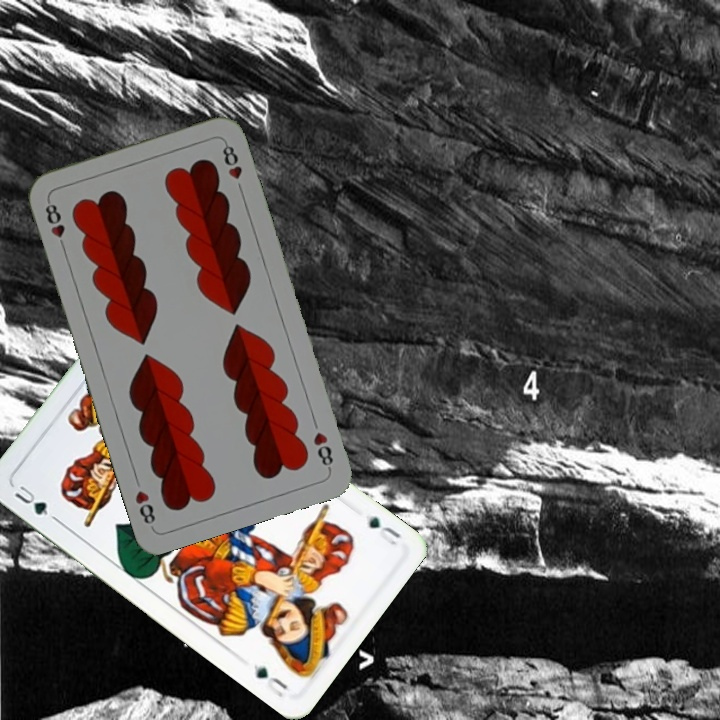GU: (10, 481, 60, 524), (364, 511, 404, 548)
H8: (41, 196, 69, 253), (309, 427, 336, 473)
